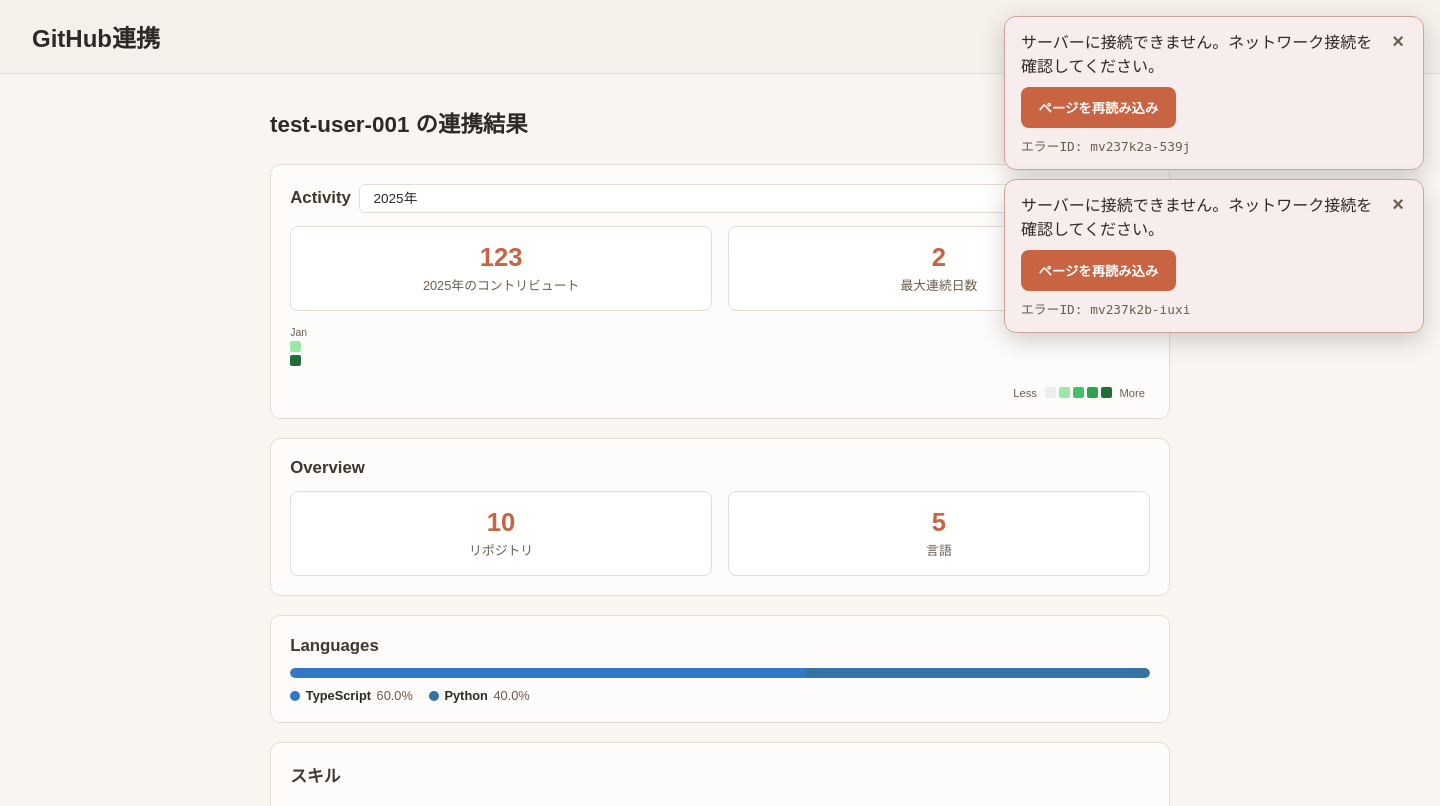
Test: GitHubLinkDashboard › 年セレクタで年を切り替えるとヒートマップの集計が切り替わる
Expected: the heading "Activity" is shown, x1=290 y1=188 x2=351 y2=208
Select "2024年" in the dropdown named "表示する年": (754, 198) x1=359 y1=184 x2=1150 y2=213
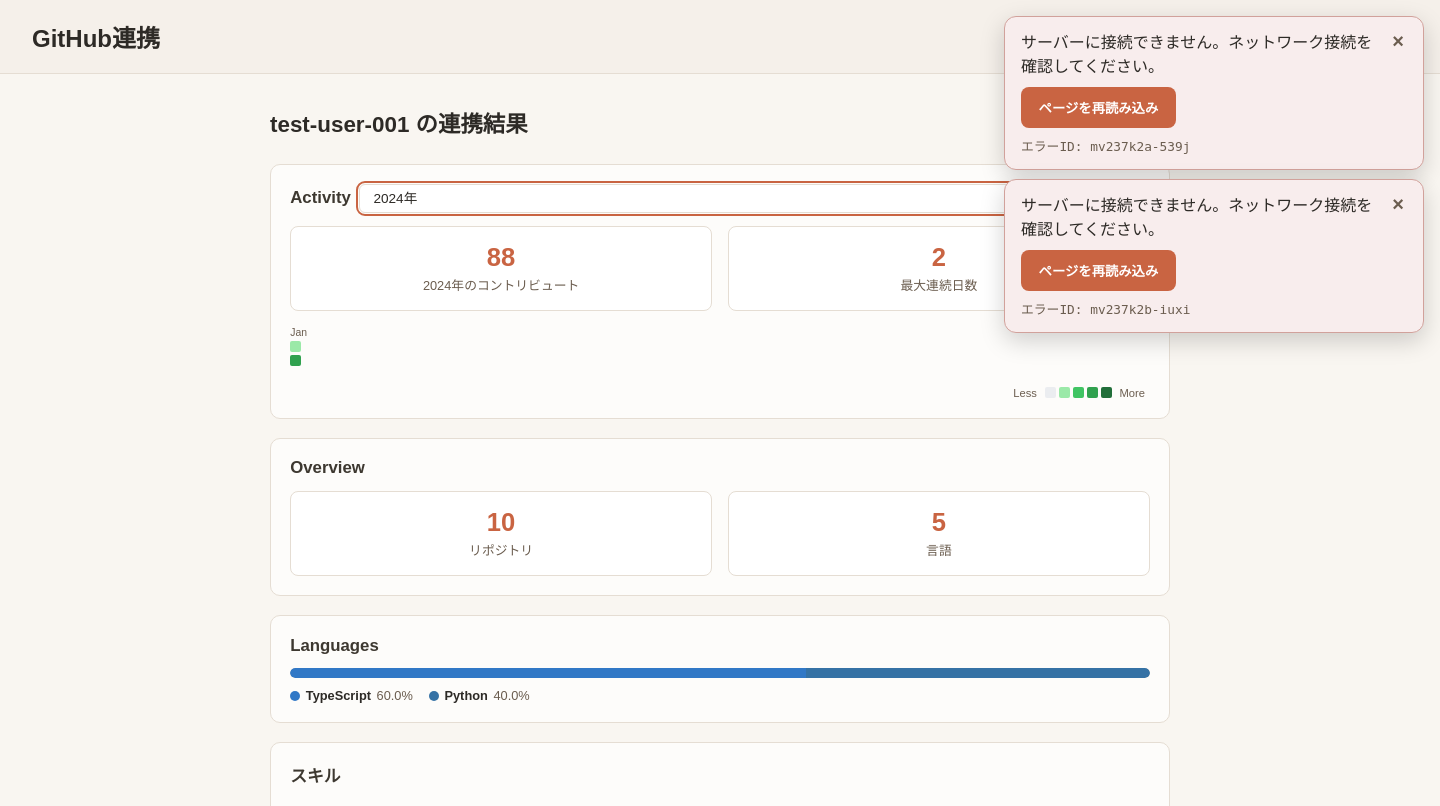
Expected: the text "2024年のコントリビュート" is shown, x1=423 y1=278 x2=579 y2=293
Expected: the text "88" is shown, x1=487 y1=242 x2=515 y2=270
